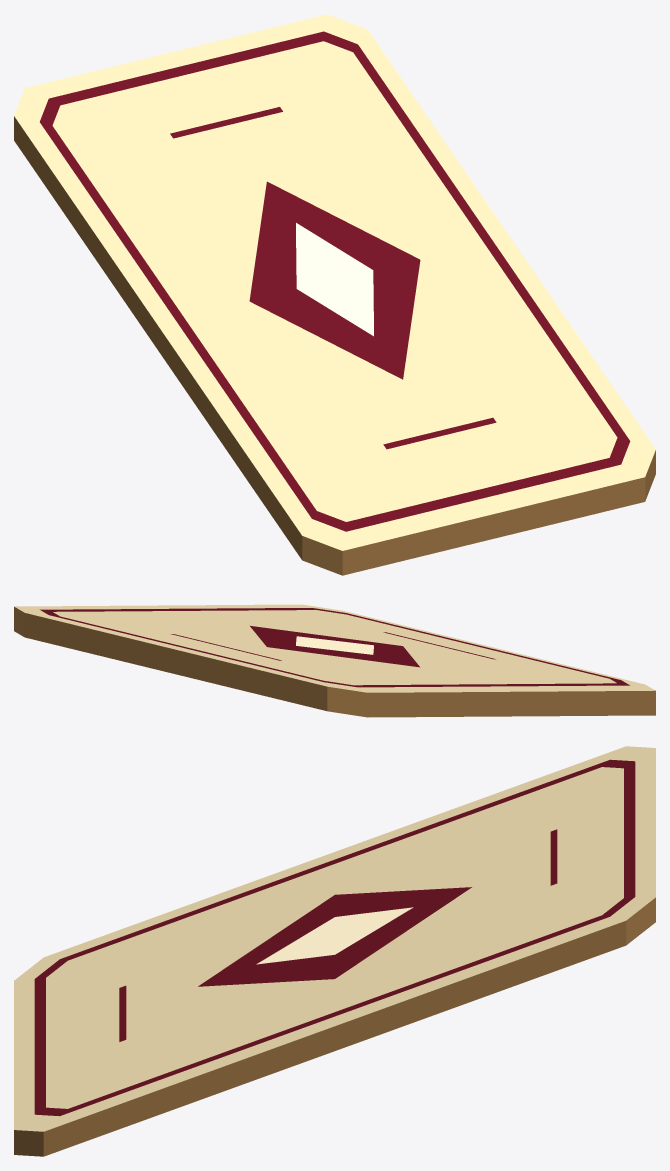
File: projectile-cartista-card.glb
3 renders of one model, top to bottom at view 1: azimuth 30°, elevation 25°; view 2: azimuth 150°, elevation 25°; view 3: azimuth 270°, elevation 25°, orthographic.
Visible parts, largest first — view 1: projectile-cartista-card; view 2: projectile-cartista-card; view 3: projectile-cartista-card.
Boxes of the visible parts, left/top/right/bottom form: projectile-cartista-card: left=14, top=14, right=655, bottom=575; projectile-cartista-card: left=14, top=604, right=655, bottom=717; projectile-cartista-card: left=14, top=746, right=655, bottom=1156.
Size of the model in its own units: 0.36 by 0.248 by 0.56.
Materials: 1 (1 with a texture image).
